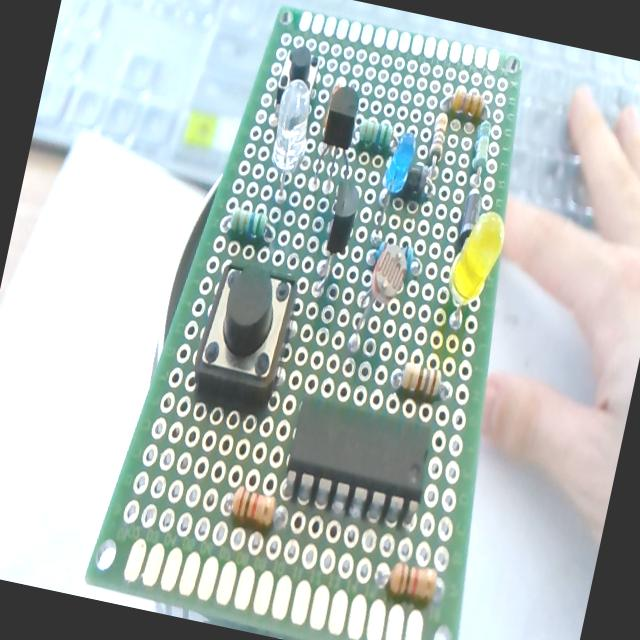IC: (280, 391, 438, 524)
cds: (348, 234, 418, 354)
diode: (457, 190, 482, 242)
led: (435, 204, 510, 338), (259, 77, 319, 204), (381, 127, 418, 196)
resistor: (372, 558, 440, 605), (386, 358, 454, 404), (420, 110, 452, 194), (226, 484, 278, 530), (354, 113, 396, 154), (227, 204, 268, 242), (447, 85, 486, 122), (468, 119, 494, 172)
switch: (187, 254, 302, 416), (270, 43, 324, 111)
transistor: (310, 181, 362, 301), (309, 81, 363, 196)
